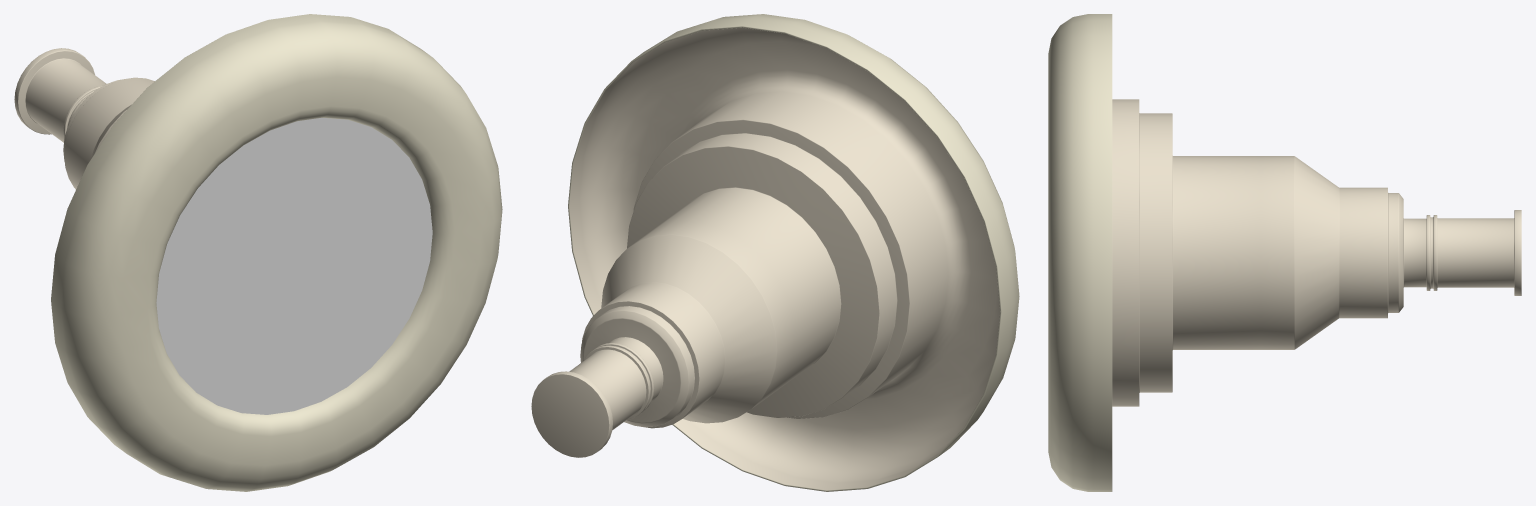
The model's file is RegularJet2.gltf.
3 renders of one model, left to right at view 1: azimuth 30°, elevation 25°; view 2: azimuth 150°, elevation 25°; view 3: azimuth 270°, elevation 25°, orthographic. The views are drawn at different scales.
Visible parts, largest first — view 1: RegularJet, Mask; view 2: RegularJet; view 3: RegularJet.
Part boxes in pixels (x1,y1,x2,y2): RegularJet: (14, 14, 502, 491); Mask: (156, 118, 432, 414); RegularJet: (531, 14, 1019, 491); RegularJet: (1048, 14, 1521, 491).
Size of the model in its own units: 0.5799 by 0.5799 by 0.5737.
